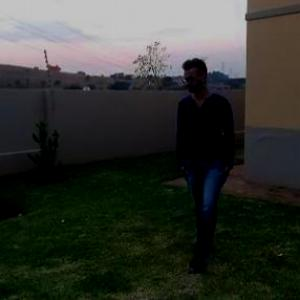follow: (158, 48, 236, 279)
